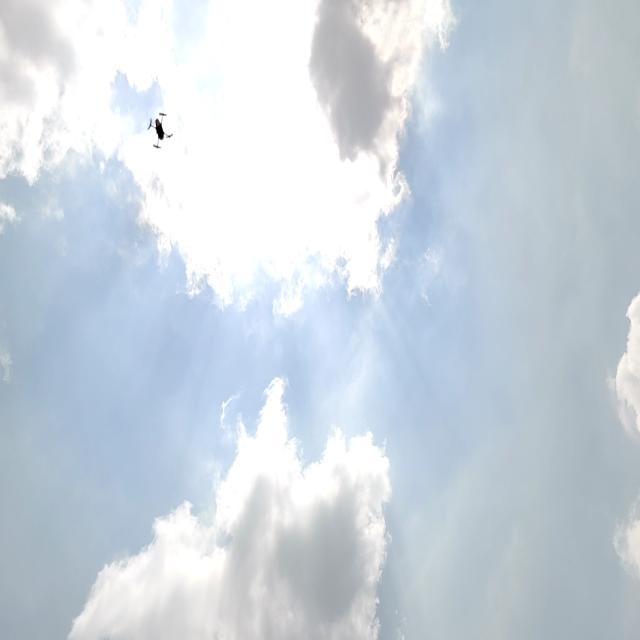drone: (139, 108, 180, 151)
